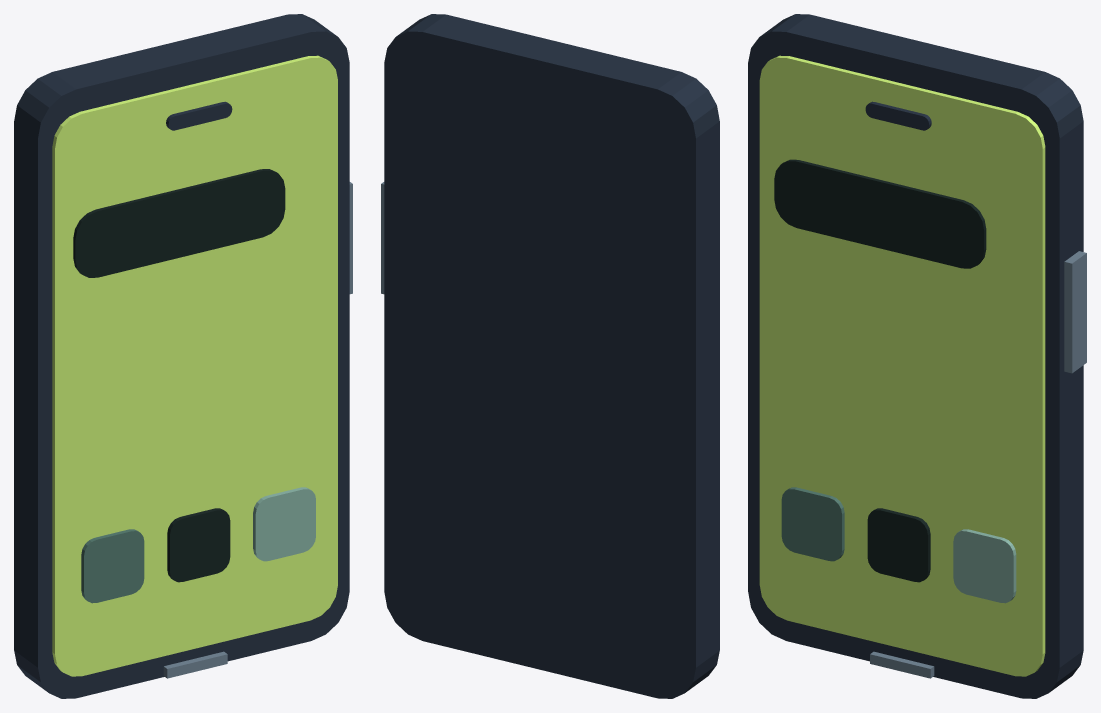
Rendered from phone.glb.
3 views of the same model, side by side, from view 1: azimuth 30°, elevation 25°; view 2: azimuth 150°, elevation 25°; view 3: azimuth 330°, elevation 25° (orthographic).
Parts seen in each view (by area): view 1: screen, case, widget, app 1, app 0, app 2, earpiece, port; view 2: case; view 3: screen, case, widget, app 0, app 1, app 2, side switch, earpiece, port.
Part boxes in pixels (bbox=[...]): screen: bbox=[52, 55, 337, 676]; case: bbox=[14, 14, 349, 698]; widget: bbox=[73, 169, 285, 277]; app 1: bbox=[167, 508, 230, 582]; app 0: bbox=[81, 529, 144, 603]; app 2: bbox=[253, 487, 315, 561]; earpiece: bbox=[166, 101, 232, 130]; port: bbox=[163, 651, 227, 678]; case: bbox=[384, 14, 719, 698]; screen: bbox=[759, 55, 1045, 676]; case: bbox=[748, 14, 1083, 698]; widget: bbox=[774, 159, 986, 268]; app 0: bbox=[781, 487, 844, 561]; app 1: bbox=[867, 508, 930, 582]; app 2: bbox=[953, 529, 1016, 603]; side switch: bbox=[1064, 251, 1086, 373]; earpiece: bbox=[865, 101, 931, 130]; port: bbox=[870, 651, 934, 678].
Size of the model in its own units: 1 by 1.83 by 0.166.
